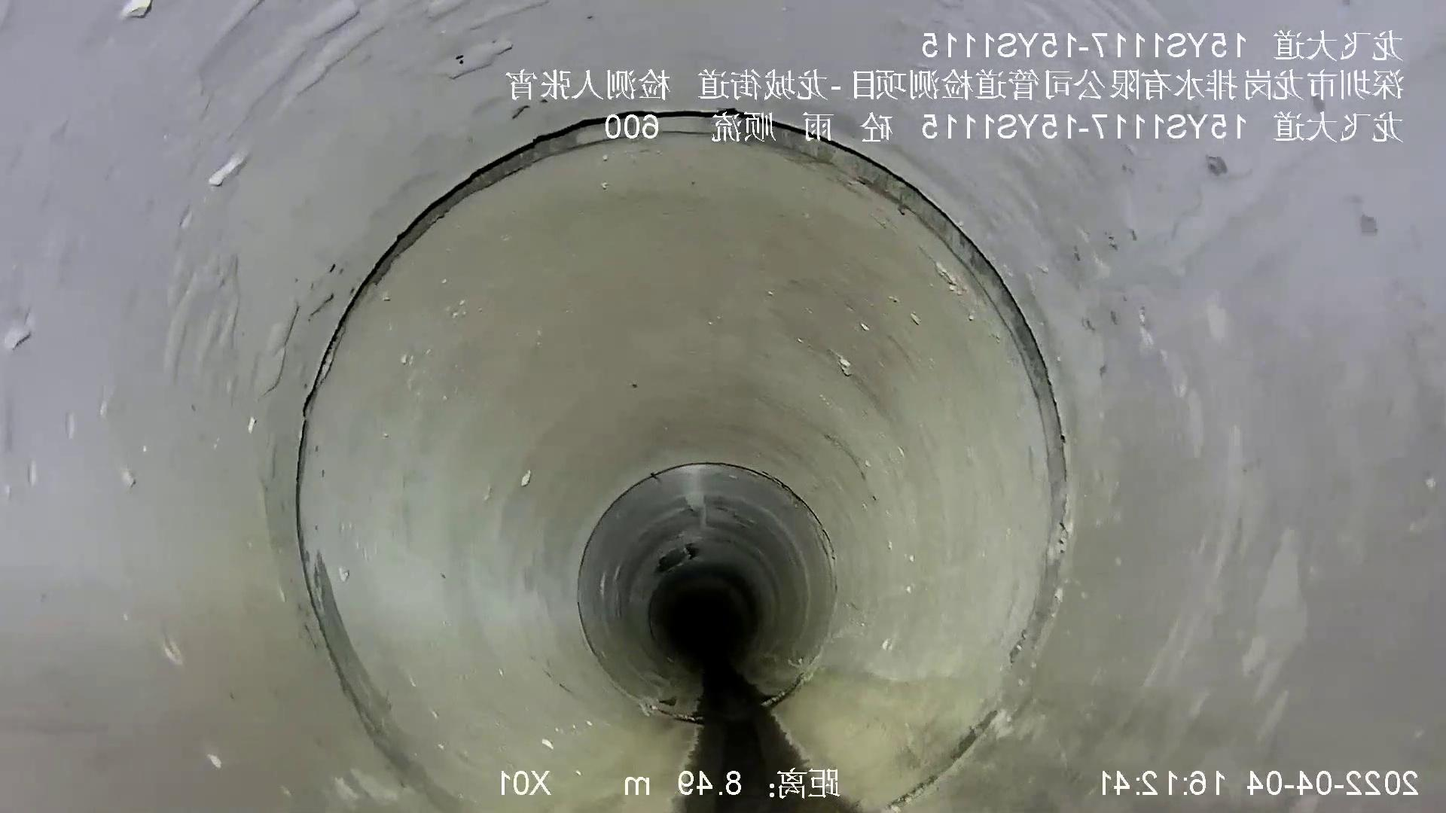CKTJ: (283, 105, 1075, 809)
